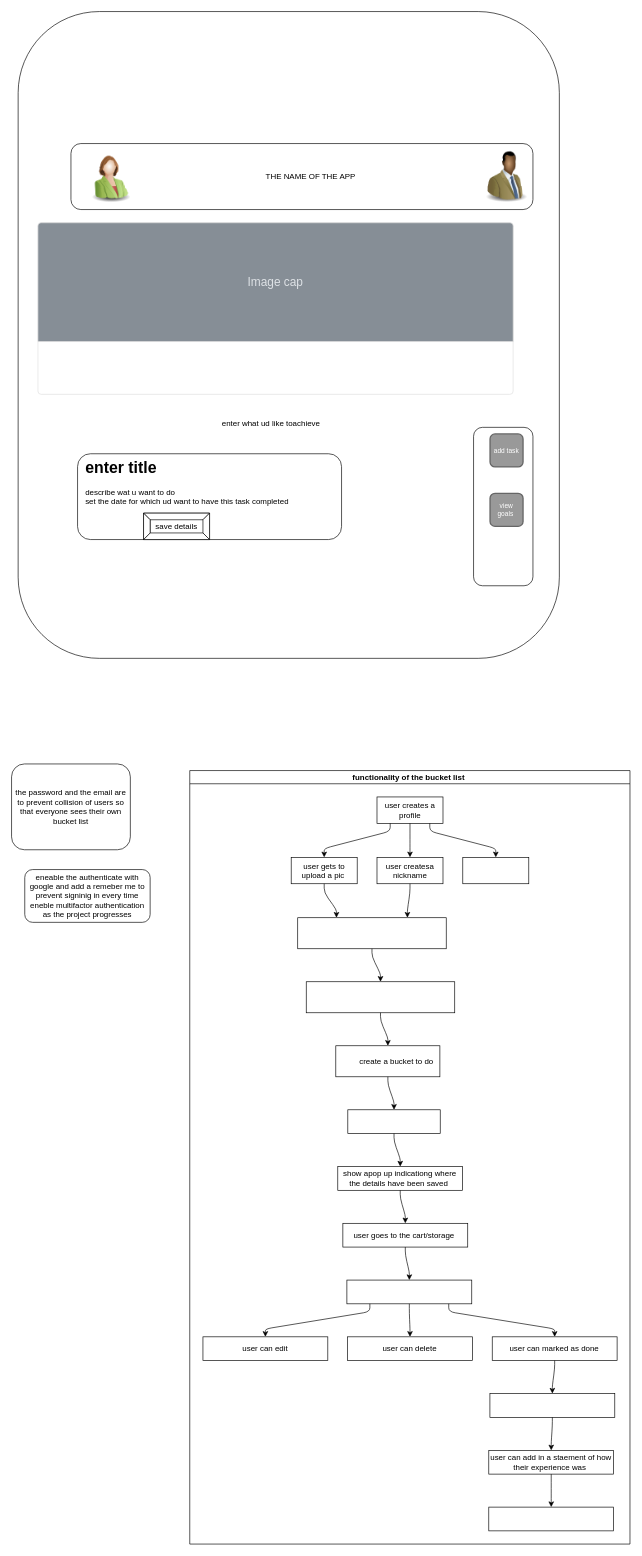
Some shapes in this 642 by 1556 pixel diagram are drawn without their labels. Here are the shapes that lost their labels. From the top down, the centre of each, then its label:
pixel 275 308: image showing adventure
pixel 495 870: user enters email,name and password
pixel 371 933: after profie and signing in the user will go to the landing
pixel 380 997: user will get a prefilled entry to prent having empty or no cards
pixel 393 1121: save the details
pixel 409 1291: user selects a certain task
pixel 552 1405: allow the user to store apicture of the event
pixel 551 1518: user saves all the details
